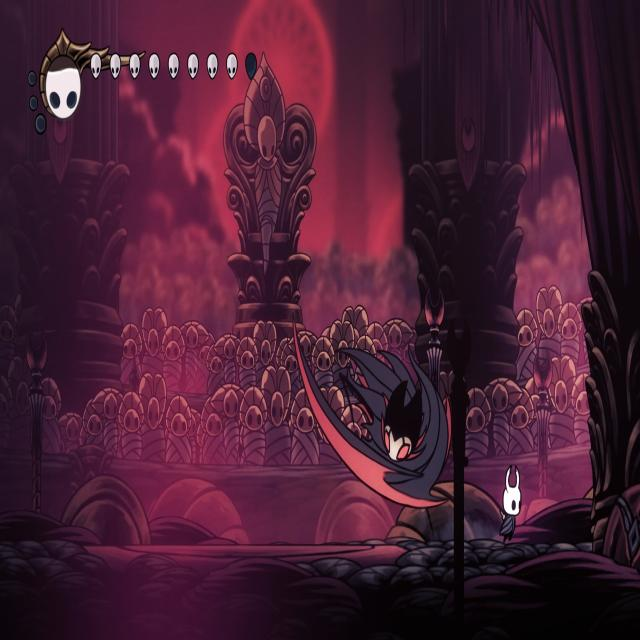Dash Uppercut: (290, 306, 453, 540)
Player: (496, 460, 524, 542)
